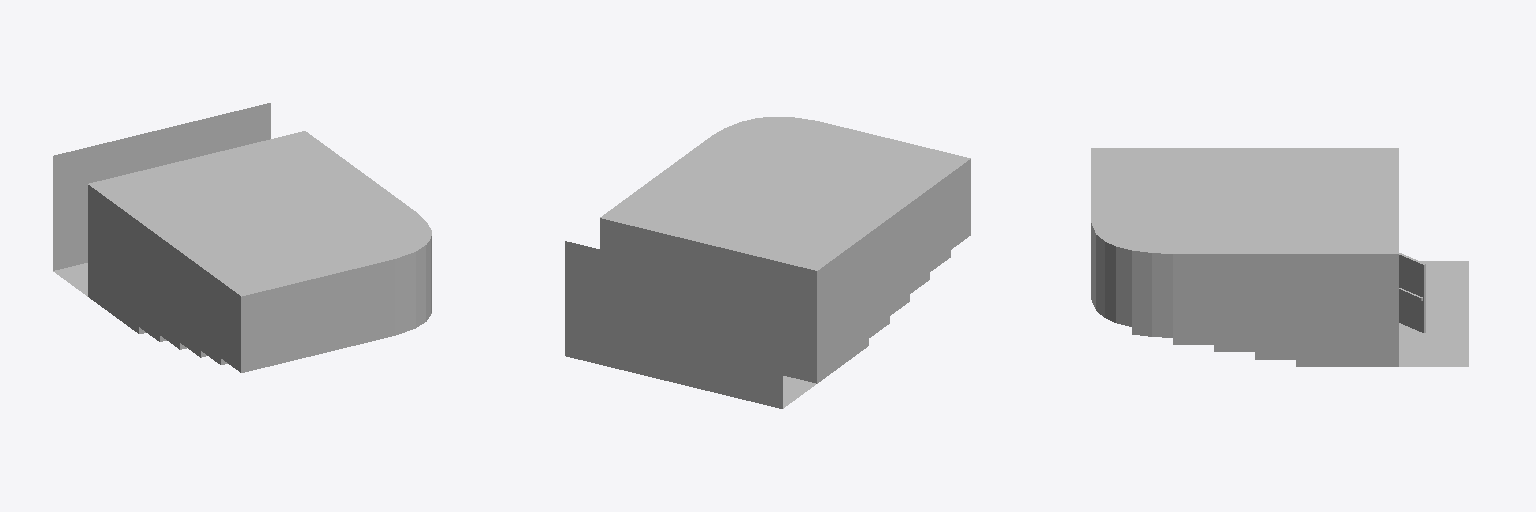
Rendered from walls.obj.
3 renders of one model, left to right at view 1: azimuth 30°, elevation 25°; view 2: azimuth 150°, elevation 25°; view 3: azimuth 270°, elevation 25°, orthographic.
Visible parts, largest first — view 1: Wand, Boden; view 2: Wand, Boden; view 3: Wand, Boden, Tuer.
Boxes of the visible parts, x1=… form: Wand: x1=53, y1=103, x2=431, y2=372; Boden: x1=53, y1=263, x2=431, y2=364; Wand: x1=565, y1=117, x2=970, y2=408; Boden: x1=783, y1=376, x2=815, y2=408; Wand: x1=1091, y1=148, x2=1398, y2=366; Boden: x1=1399, y1=261, x2=1468, y2=366; Tuer: x1=1399, y1=253, x2=1425, y2=332.
Size of the model in its own units: 16 by 8.1 by 24.02.